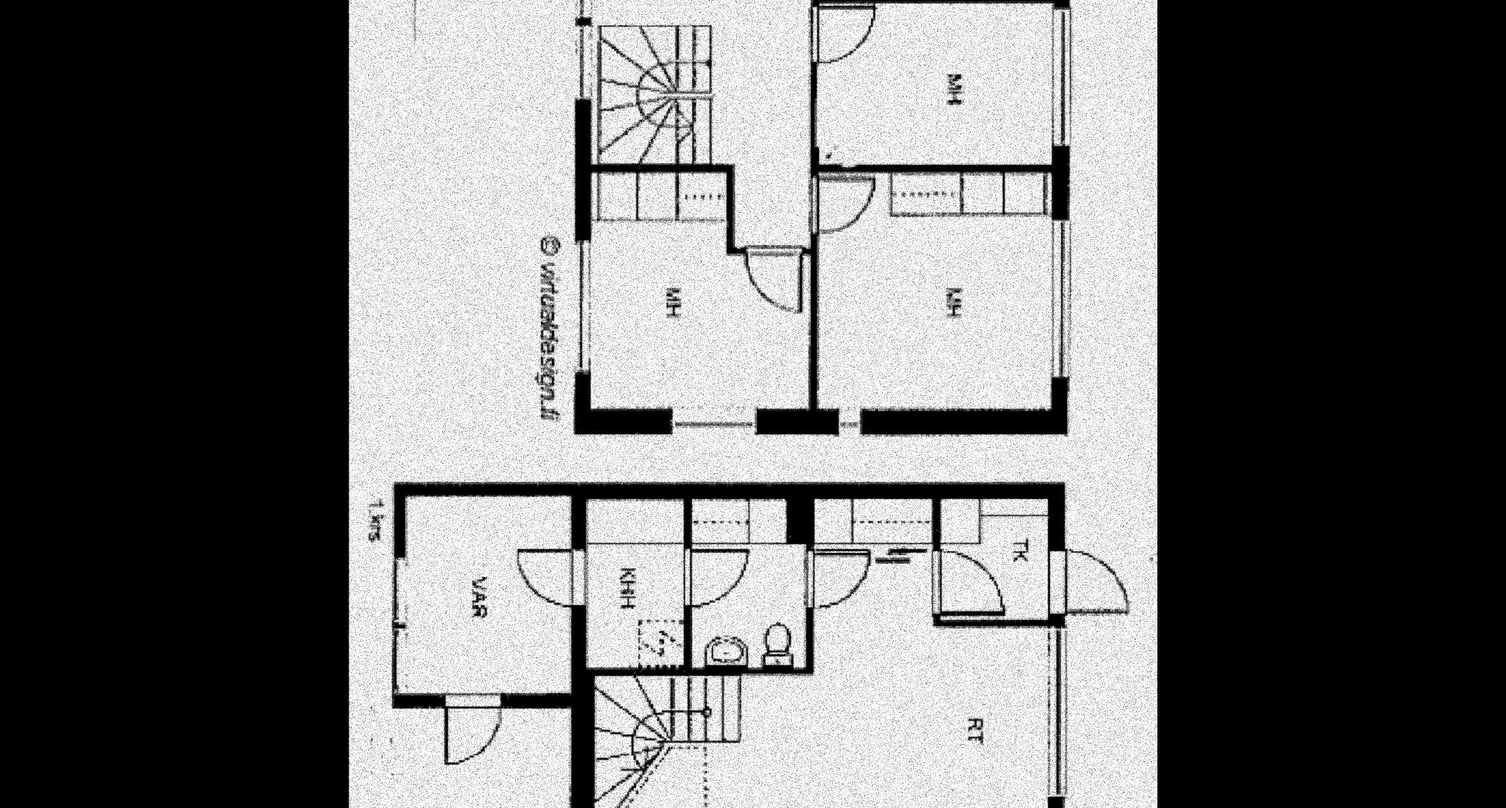door: (438, 688, 505, 772), (930, 548, 1010, 617), (1047, 548, 1129, 614), (806, 2, 881, 69), (740, 245, 803, 319), (802, 548, 871, 611), (808, 171, 873, 236), (686, 548, 750, 611)
window: (1048, 220, 1072, 377), (1047, 631, 1066, 799), (1051, 12, 1072, 146), (569, 242, 590, 369), (671, 406, 757, 436), (572, 0, 593, 98), (835, 409, 856, 437)
zone: (586, 497, 1049, 808), (586, 0, 807, 252), (814, 175, 1049, 408), (590, 171, 811, 409), (817, 4, 1056, 163), (399, 499, 568, 693), (693, 500, 806, 672), (584, 503, 685, 671), (935, 497, 1048, 621), (413, 0, 573, 44)
